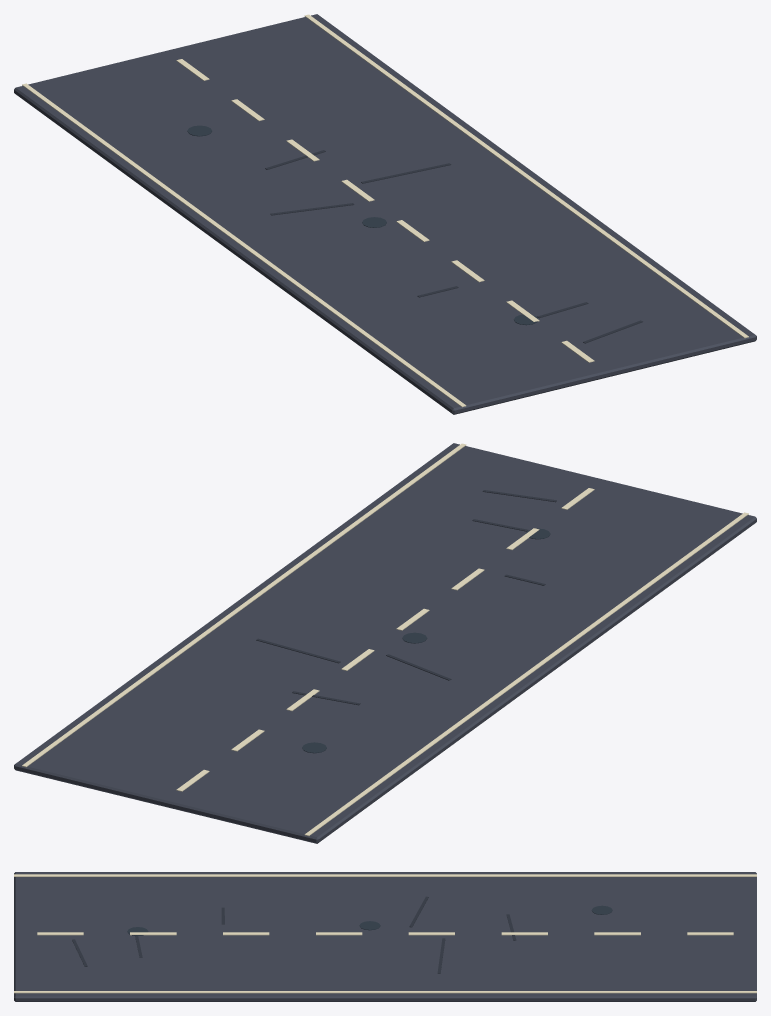
The model's file is hd_rd_city.gltf.
3 renders of one model, top to bottom at view 1: azimuth 30°, elevation 25°; view 2: azimuth 150°, elevation 25°; view 3: azimuth 270°, elevation 25°, orthographic. The views are drawn at different scales.
Parts seen in each view (by area): view 1: road, eline1, eline0; view 2: road, eline1, eline0; view 3: road, eline0, eline1.
Boxes of the visible parts, left/top/right/bottom form: road: left=14, top=14, right=756, bottom=414; eline1: left=304, top=14, right=748, bottom=338; eline0: left=22, top=83, right=466, bottom=407; road: left=14, top=443, right=756, bottom=843; eline1: left=22, top=443, right=466, bottom=767; eline0: left=304, top=512, right=748, bottom=836; road: left=14, top=872, right=756, bottom=1001; eline0: left=14, top=874, right=756, bottom=876; eline1: left=14, top=991, right=756, bottom=993.
Bounding box in the file's own units: 9.6 × 0.22 × 24.
